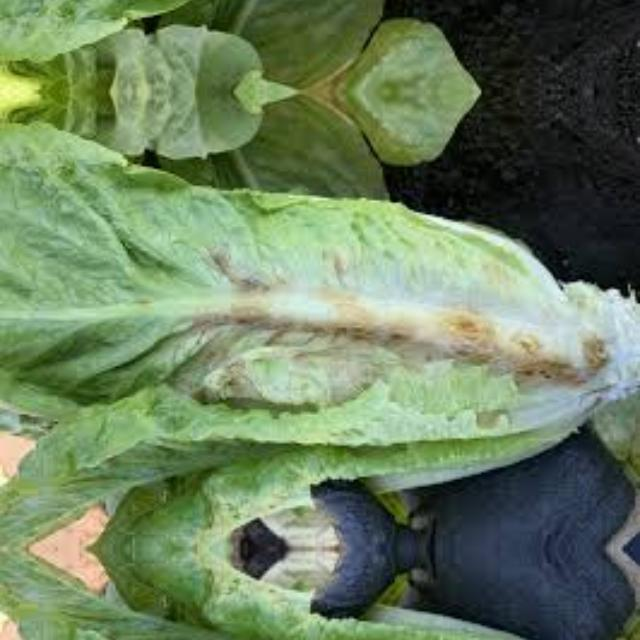Lettuce - Anthracnose: (0, 117, 626, 495), (0, 0, 626, 65), (0, 601, 626, 640)
